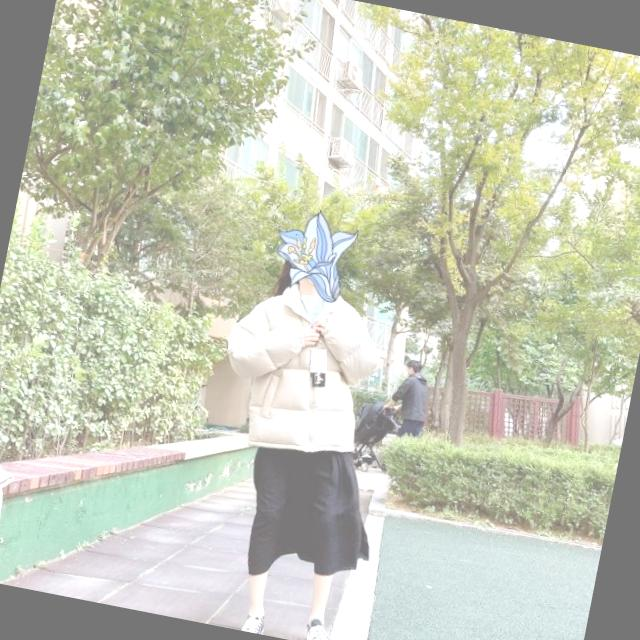padding: (210, 269, 392, 467)
skirt: (232, 430, 388, 594)
